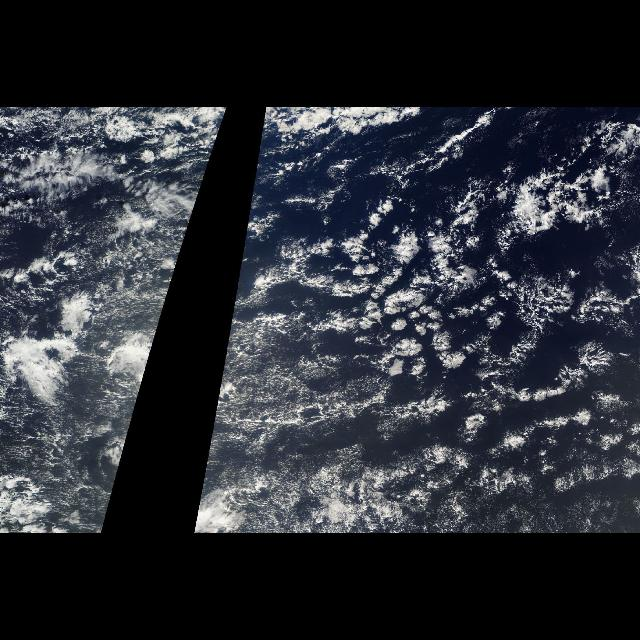Sugar: (234, 330, 286, 480)
